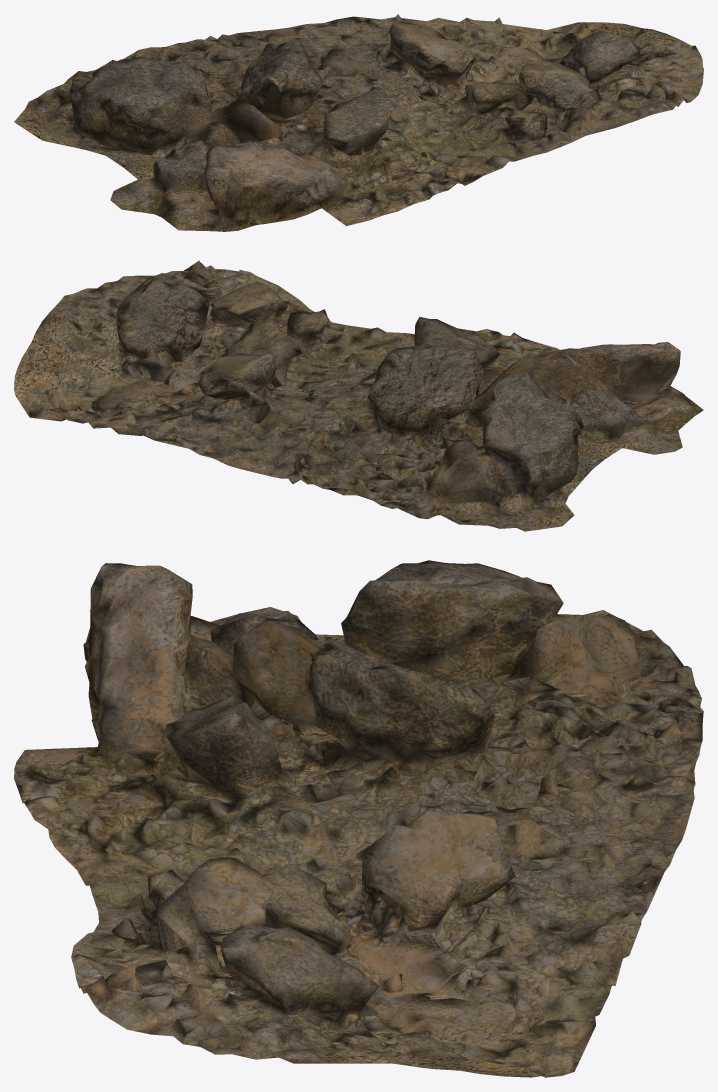
The model's file is coast_land_rocks_03.glb.
3 renders of one model, top to bottom at view 1: azimuth 30°, elevation 25°; view 2: azimuth 150°, elevation 25°; view 3: azimuth 270°, elevation 25°, orthographic. The views are drawn at different scales.
Visible parts, largest first — view 1: coast_land_rocks_03; view 2: coast_land_rocks_03; view 3: coast_land_rocks_03.
Part boxes in pixels (x1=…): coast_land_rocks_03: x1=14, y1=14, x2=703, y2=231; coast_land_rocks_03: x1=14, y1=260, x2=703, y2=531; coast_land_rocks_03: x1=14, y1=560, x2=703, y2=1077.
Size of the model in its own units: 8.96 by 1.52 by 5.61.
1 material, 1 textured.
